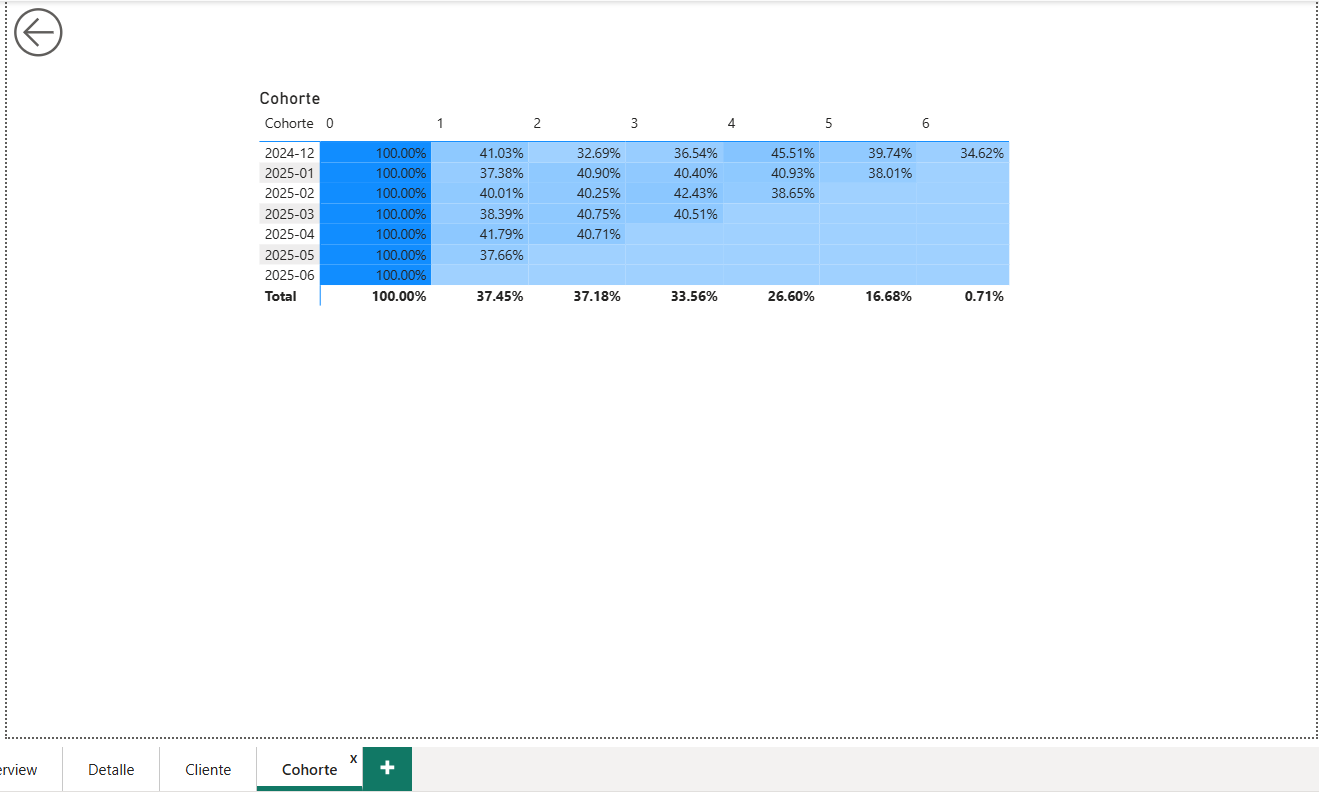

The dashboard page shown, as its layout file describes it:
{"tool":"powerbi","page":{"name":"Cohorte","canvas":[1280,720],"ordinal":3},"visuals":[{"type":"pivotTable","title":"Cohorte","fields":{"Rows":["orders_clean.Cohorte"],"Columns":["orders_clean.Meses_desde_venta"],"Values":["orders_clean.%_de_retencion"]},"box":[242,84.6,743.5,253.7],"z":0},{"type":"actionButton","box":[0,0,68.5,61.2],"z":1}]}

Visuals, with their boxes on the page's 1280x720 design canvas (x1, y1, x2, y2). These are canvas units, not pixel positions in the 1319x792 screenshot, which may show the page scaled, cropped or inside an application window:
"Cohorte" pivotTable: 242, 85, 986, 338
actionButton: 0, 0, 68, 61
